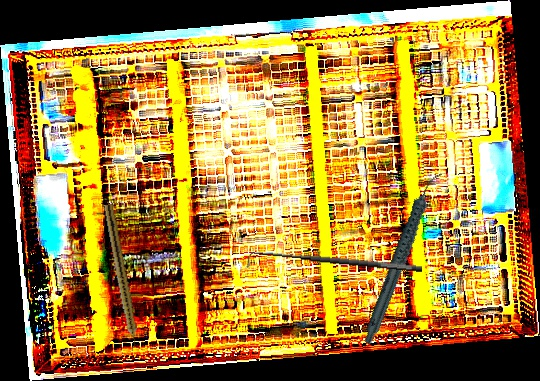Handpiece: (329, 168, 476, 347), (100, 203, 142, 352)
Hook Surgical: (246, 244, 423, 287)
